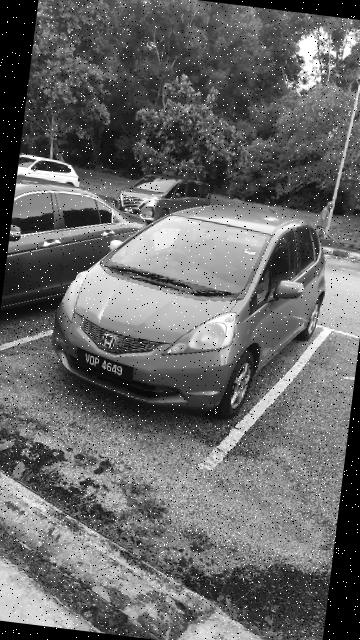License_Plate: (73, 343, 142, 388)
car: (41, 178, 342, 428)
